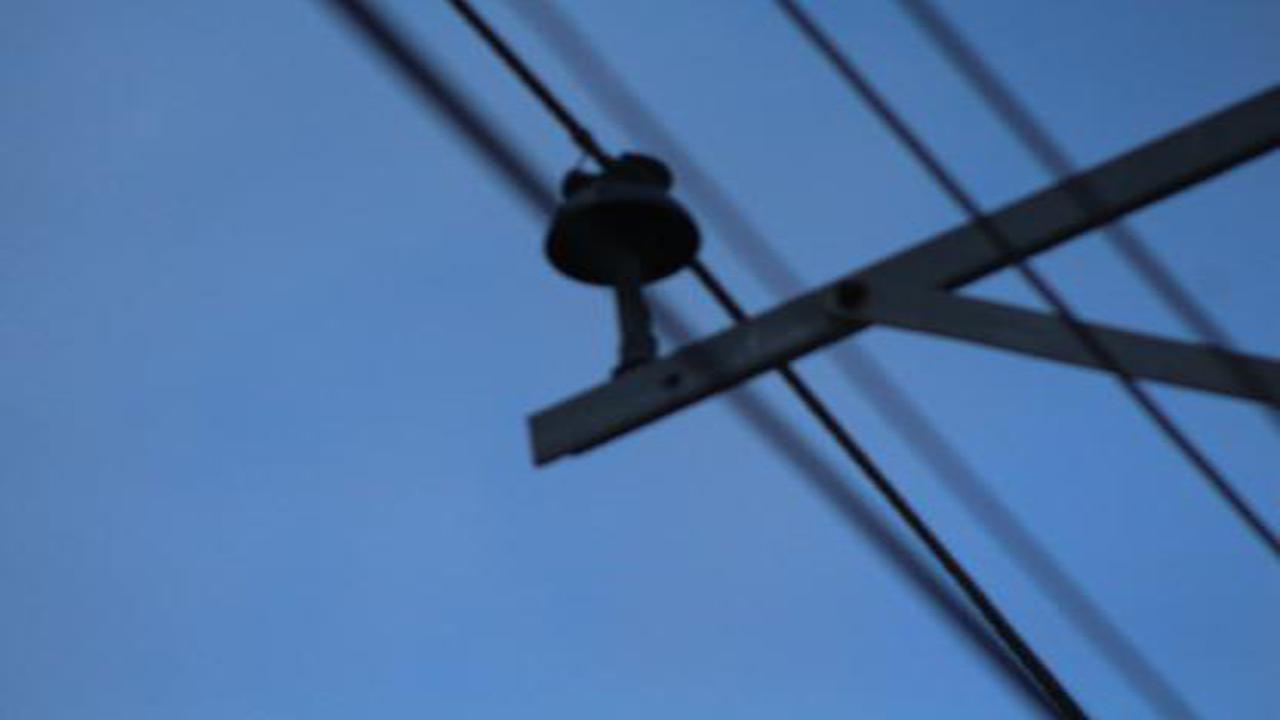insulator_pin: (542, 151, 703, 300)
